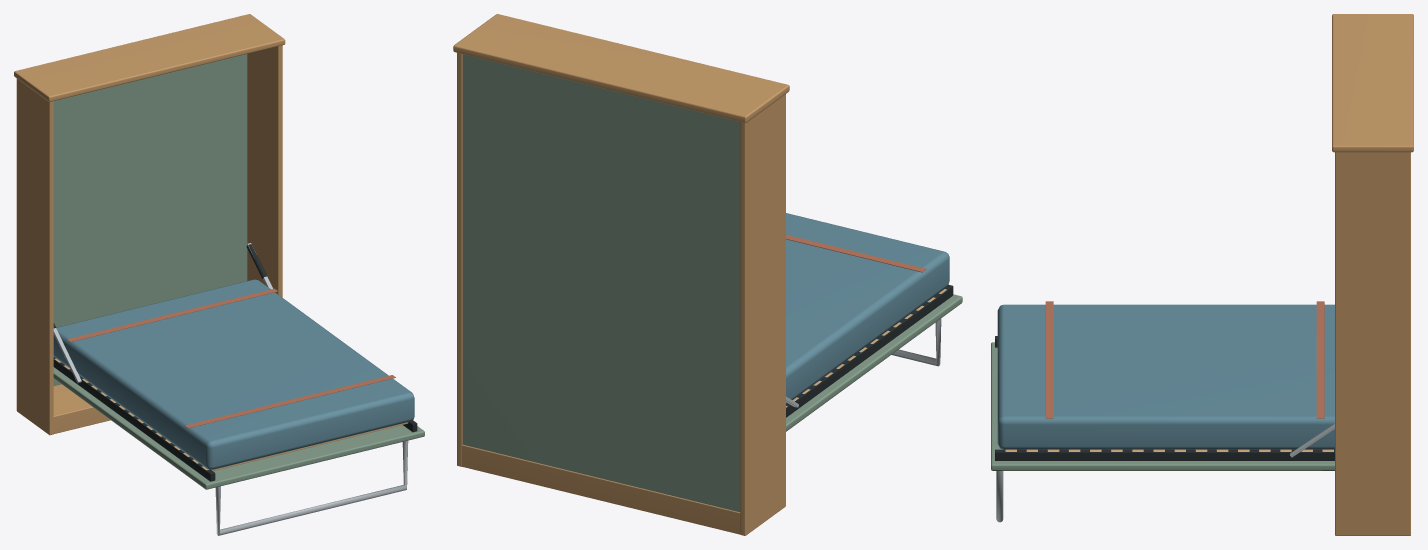
The model's file is wall-bed-open.glb.
3 renders of one model, left to right at view 1: azimuth 30°, elevation 25°; view 2: azimuth 150°, elevation 25°; view 3: azimuth 270°, elevation 25°, orthographic. The views are drawn at different scales.
Visible parts, largest first — view 1: wall-bed-open authored assembly; view 2: wall-bed-open authored assembly; view 3: wall-bed-open authored assembly.
Part boxes in pixels (x1=…): wall-bed-open authored assembly: x1=14, y1=14, x2=424, y2=535; wall-bed-open authored assembly: x1=453, y1=14, x2=962, y2=535; wall-bed-open authored assembly: x1=991, y1=14, x2=1413, y2=535.
Bounding box in the file's own units: 1.65 × 2.26 × 2.22.
